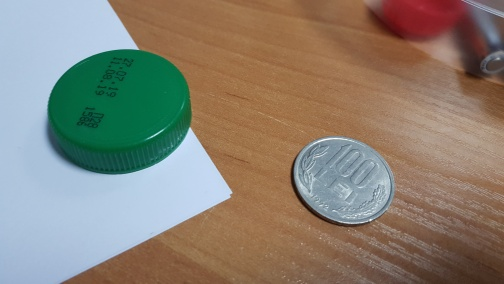coin: (291, 136, 396, 227)
